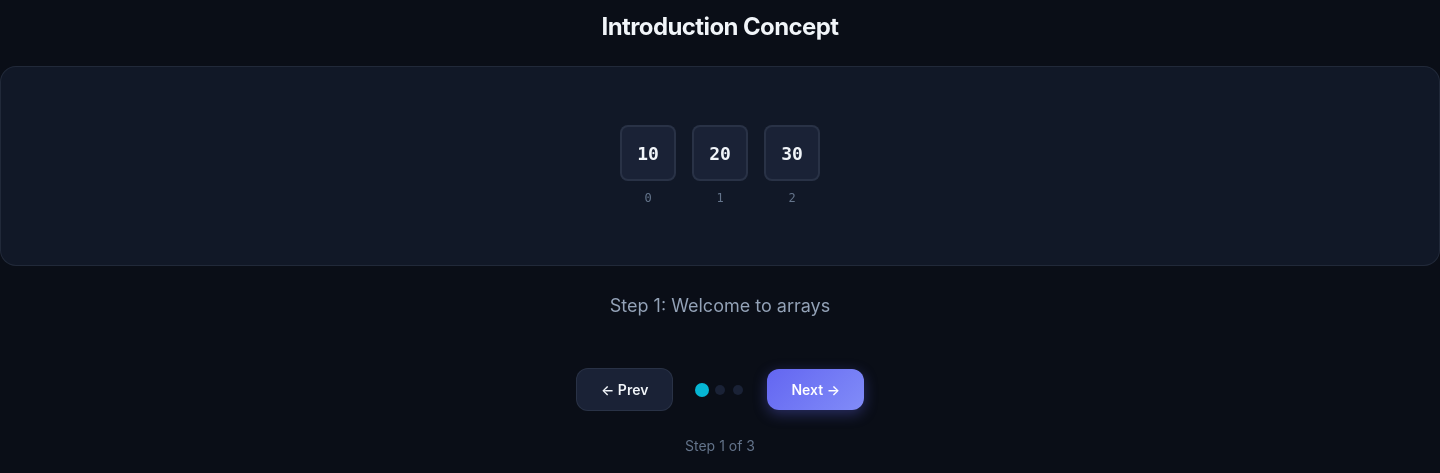
Scenario: Learning Progress Integration (Phase 3 Sprint 1, LessonViewer & TrackProgressBar) › LessonViewer (Completion Wiring) › completes lesson automatically upon reaching the final animation step when no mini-exercise exists
Expected: the text "Step 1 of 3" is shown, 685,435 -> 755,456
Expected: the text "Step 1: Welcome to arrays" is shown, 610,295 -> 830,316
Click the button with aria-label "next step" at (816, 390), box 767,369 -> 864,410
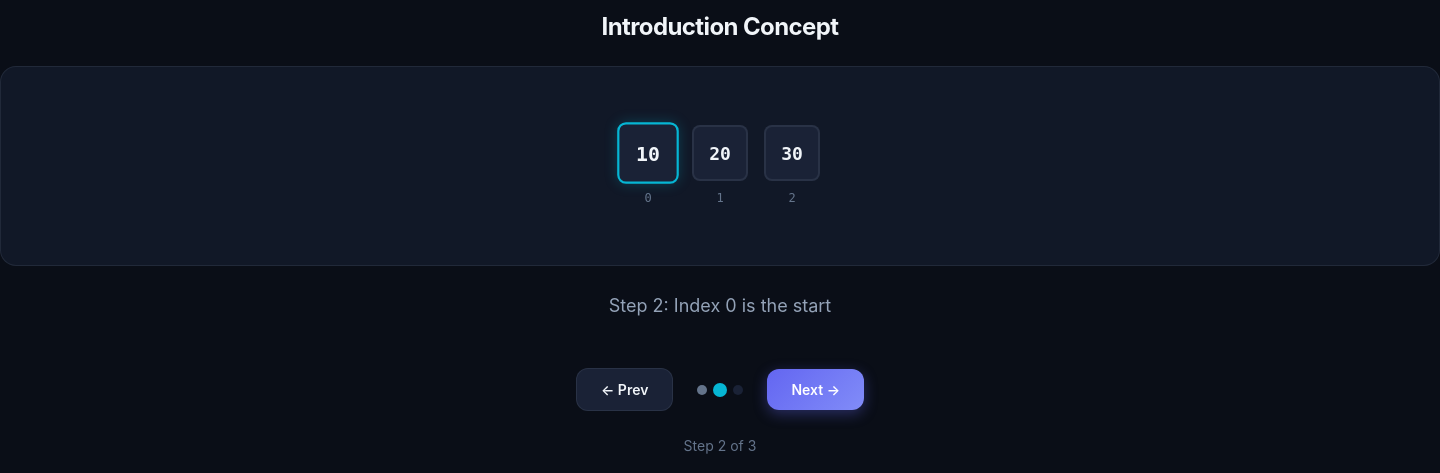
Now the text "Step 2 of 3" is shown, box 684,435 -> 756,456
Now the text "Step 2: Index 0 is the start" is shown, box 609,295 -> 831,316
Click the button with aria-label "next step" at (816, 390), box 767,369 -> 864,410
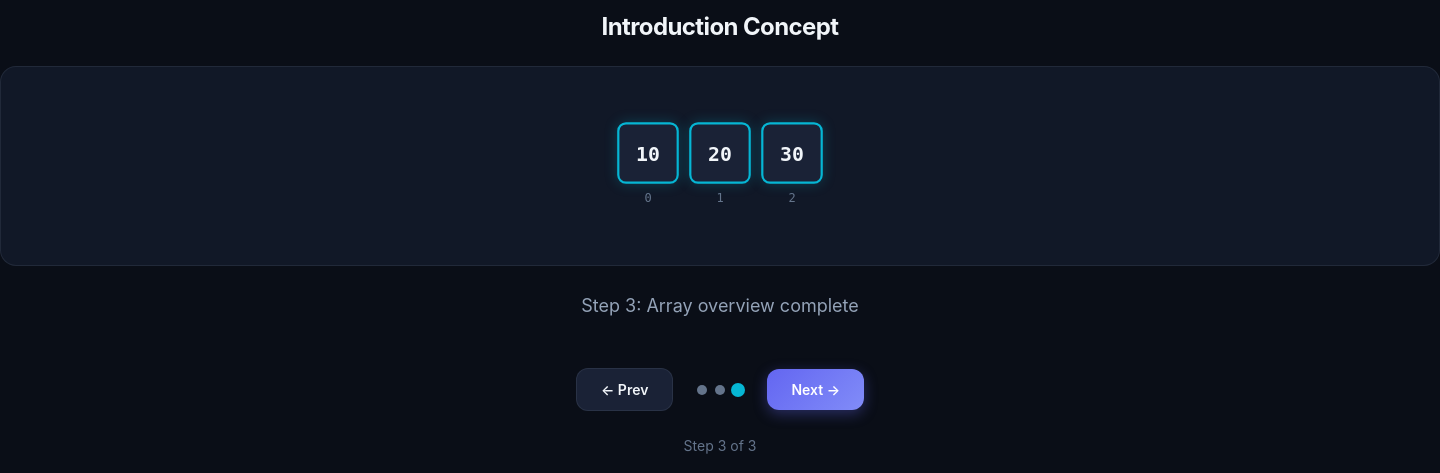
Now the text "Step 3 of 3" is shown, box 684,435 -> 756,456
Now the text "Step 3: Array overview complete" is shown, box 581,295 -> 859,316
Note: Verify going back with previous step button
Click the button with aria-label "previous step" at (625, 390), box 576,368 -> 673,411
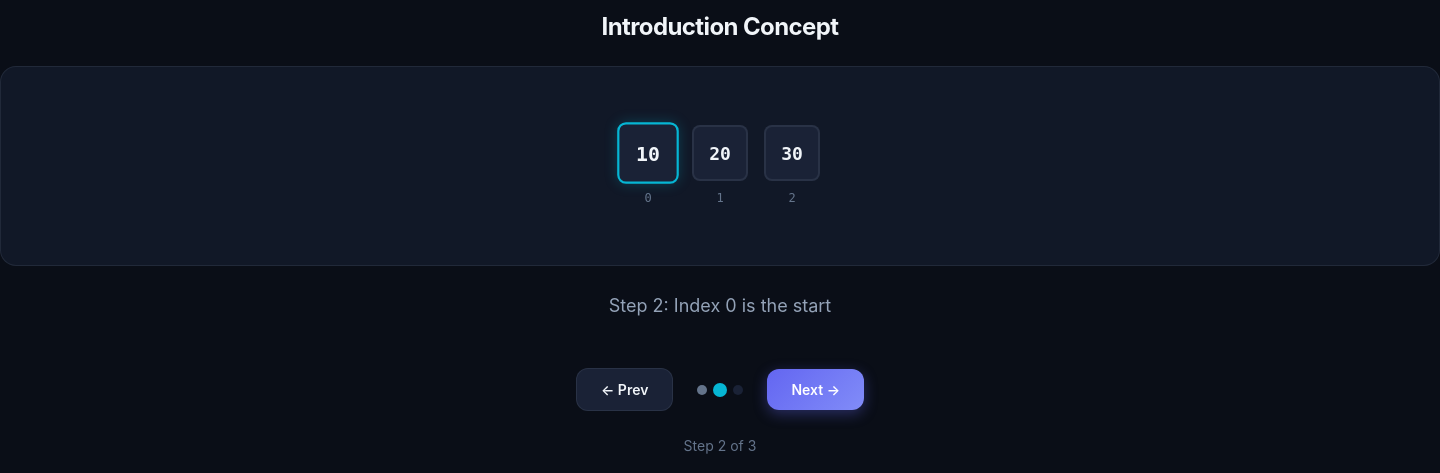
Now the text "Step 2 of 3" is shown, box 684,435 -> 756,456
Note: Verify jumping to step 1 via step dot button
Click the button named "go to step 1" at (702, 390), box 697,384 -> 707,394
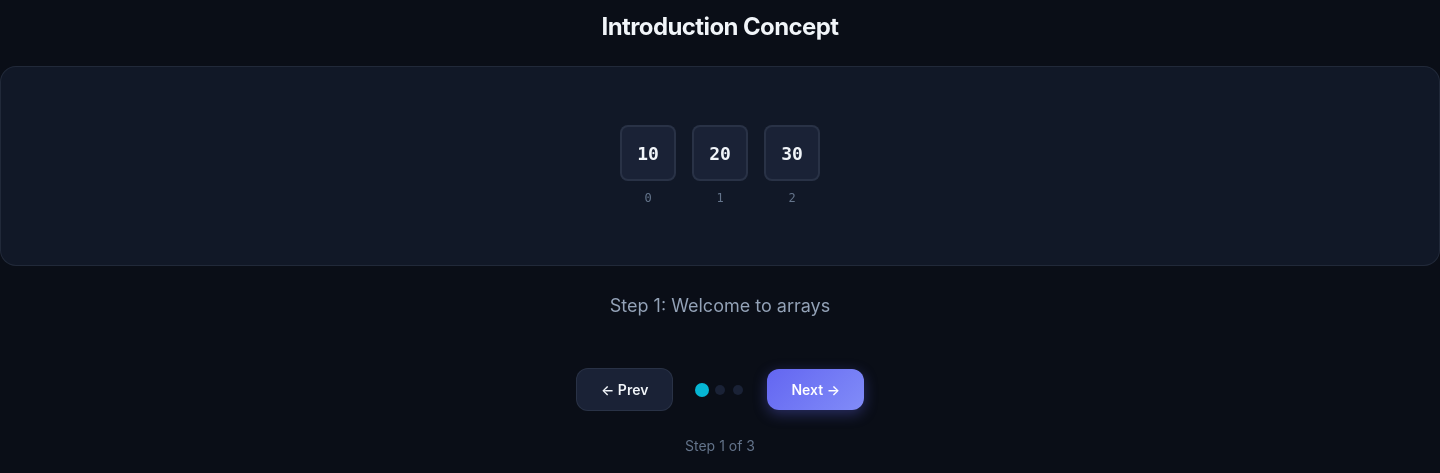
Now the text "Step 1 of 3" is shown, box 685,435 -> 755,456
